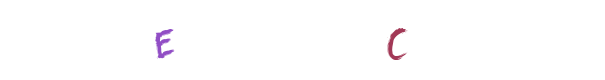0: (262, 0, 342, 80)
4: (230, 0, 310, 80)
7: (233, 0, 313, 80)
C: (354, 0, 434, 80)
E: (122, 0, 202, 80)
